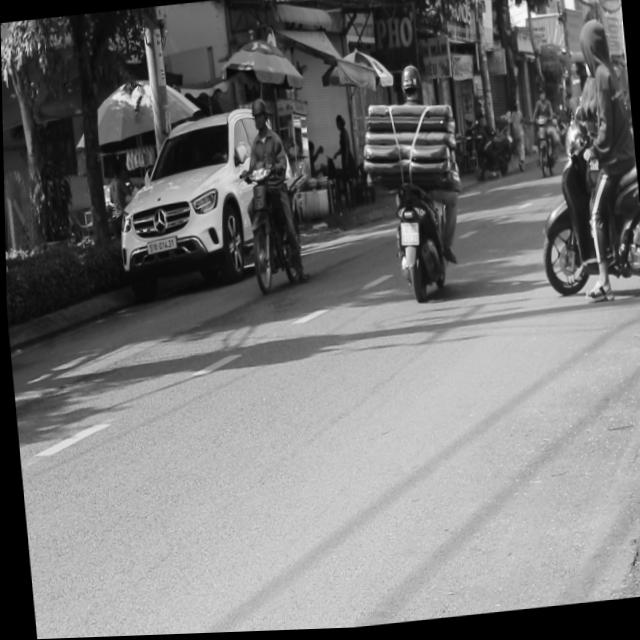helmet: (575, 19, 610, 78), (396, 64, 421, 104), (247, 96, 267, 133)
licenseplate: (516, 9, 640, 312), (376, 59, 465, 304), (232, 93, 305, 294)
nohelmet: (397, 222, 417, 247)
